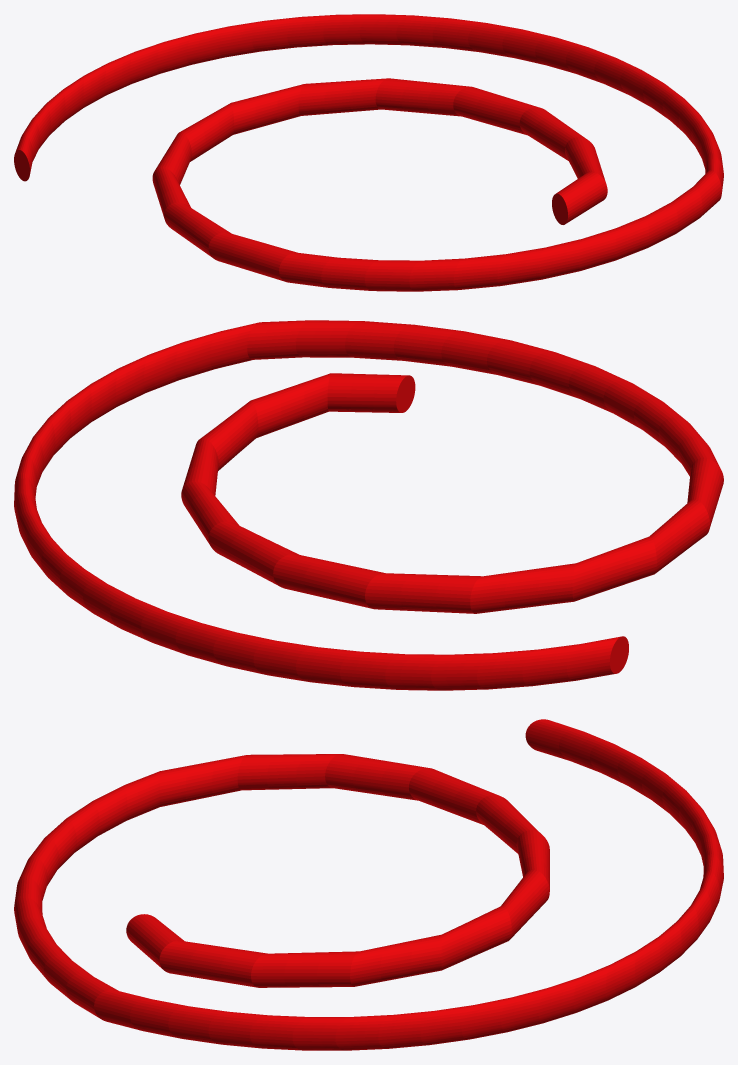
Rendered from SalseKetchup.fbx.
3 renders of one model, top to bottom at view 1: azimuth 30°, elevation 25°; view 2: azimuth 150°, elevation 25°; view 3: azimuth 270°, elevation 25°, orthographic. The views are drawn at different scales.
Visible parts, largest first — view 1: Cylinder; view 2: Cylinder; view 3: Cylinder.
Boxes of the visible parts, x1,y1,x2,y2 form: Cylinder: [14, 14, 723, 291]; Cylinder: [14, 320, 723, 690]; Cylinder: [14, 719, 723, 1050].
Size of the model in its own units: 1114 by 56 by 1104.
